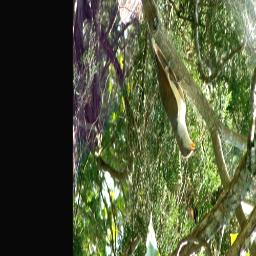Cuckoo: (141, 7, 197, 162)
